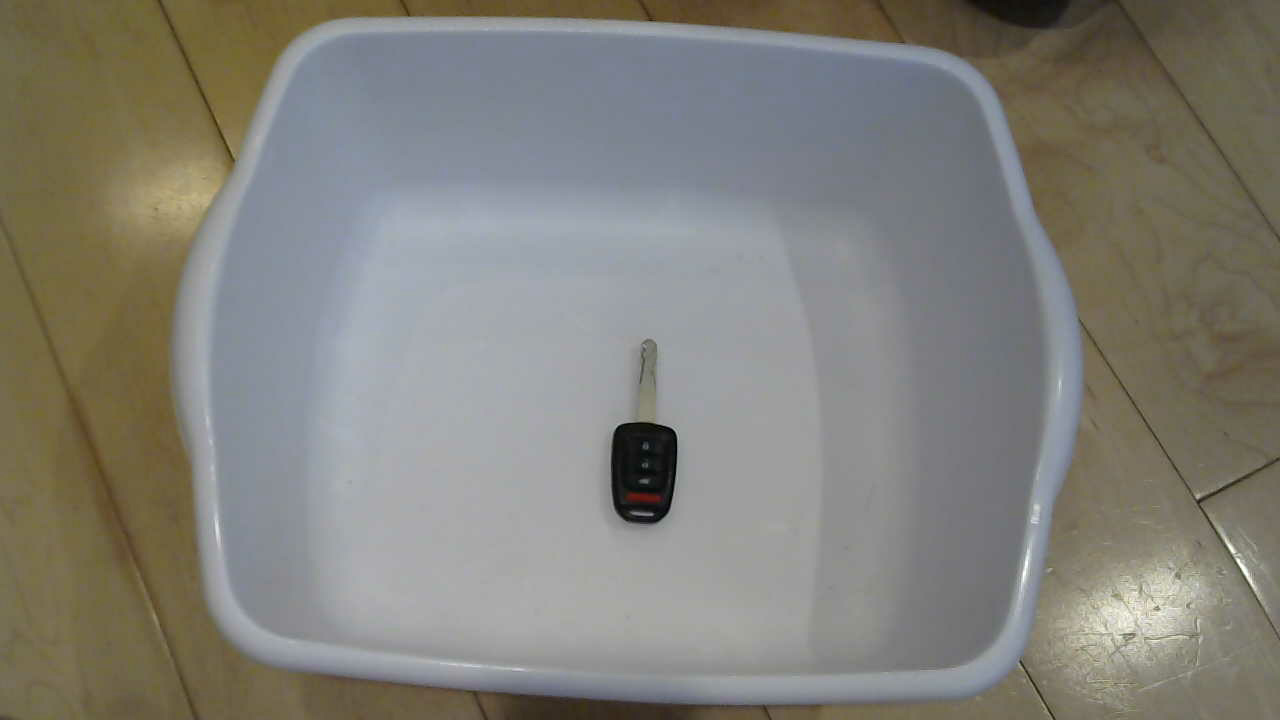key: (588, 332, 712, 537)
